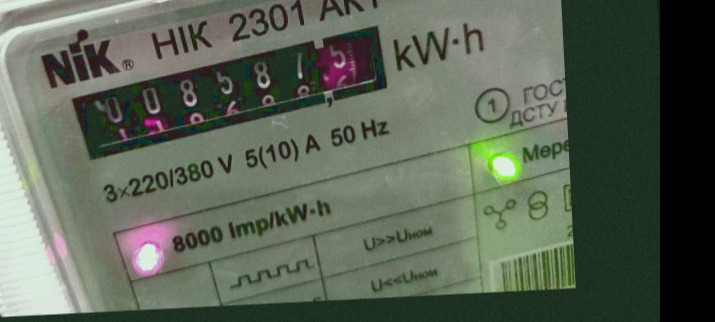0: (137, 79, 165, 114), (100, 89, 127, 122)
5: (212, 62, 237, 94), (325, 34, 349, 66)
6: (332, 69, 351, 87)
7: (287, 45, 310, 80)
8: (176, 73, 202, 106), (249, 54, 274, 88)
screen: (60, 20, 413, 160)
